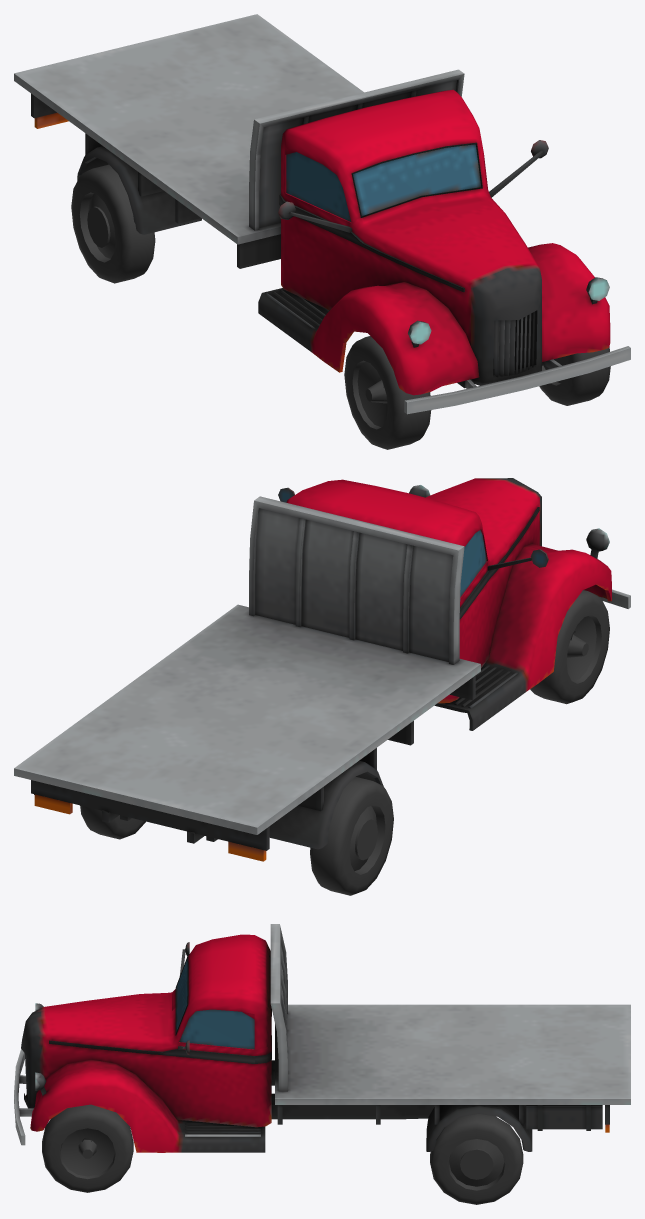
The model's file is truck.glb.
3 views of the same model, one above another, from view 1: azimuth 30°, elevation 25°; view 2: azimuth 150°, elevation 25°; view 3: azimuth 270°, elevation 25° (orthographic). The views are drawn at different scales.
Visible parts, largest first — view 1: truck, truck front tyre, truck back tyre, truck back tyre001; view 2: truck, truck front tyre, truck back tyre, truck front tyre001; view 3: truck, truck front tyre001, truck back tyre001.
Boxes of the visible parts, left/top/right/bottom form: truck: left=14, top=14, right=630, bottom=414; truck front tyre: left=71, top=164, right=155, bottom=283; truck back tyre: left=344, top=336, right=431, bottom=449; truck back tyre001: left=539, top=346, right=610, bottom=405; truck: left=14, top=478, right=630, bottom=861; truck front tyre: left=310, top=776, right=393, bottom=895; truck back tyre: left=530, top=590, right=609, bottom=704; truck front tyre001: left=80, top=805, right=145, bottom=839; truck: left=14, top=924, right=630, bottom=1152; truck front tyre001: left=430, top=1114, right=523, bottom=1204; truck back tyre001: left=42, top=1104, right=133, bottom=1192.
Size of the model in its own units: 2.51 by 2.18 by 6.25.
2 materials, 1 textured.
